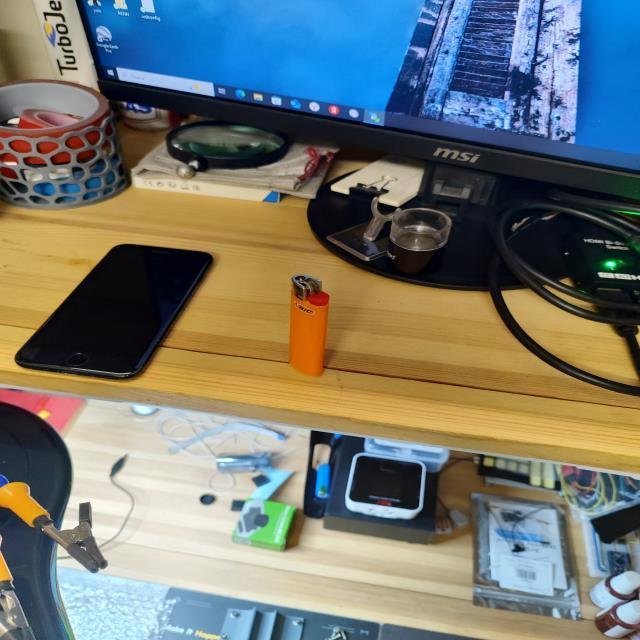lighter: (289, 275, 329, 376)
